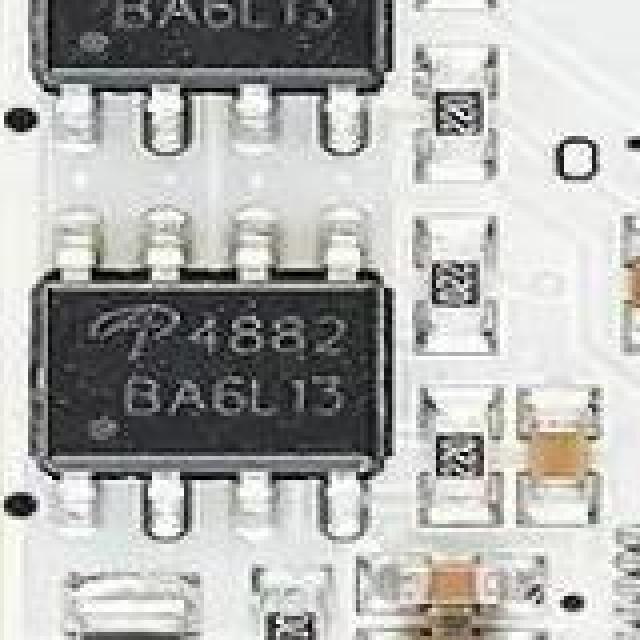IC: (44, 232, 396, 518), (36, 0, 400, 132)
capacitor: (363, 559, 545, 627), (517, 389, 597, 528), (363, 631, 536, 640), (628, 232, 640, 332)
resistor: (417, 392, 503, 531), (412, 49, 498, 184), (412, 220, 493, 356), (76, 604, 188, 640), (268, 600, 324, 640), (412, 0, 491, 9)
